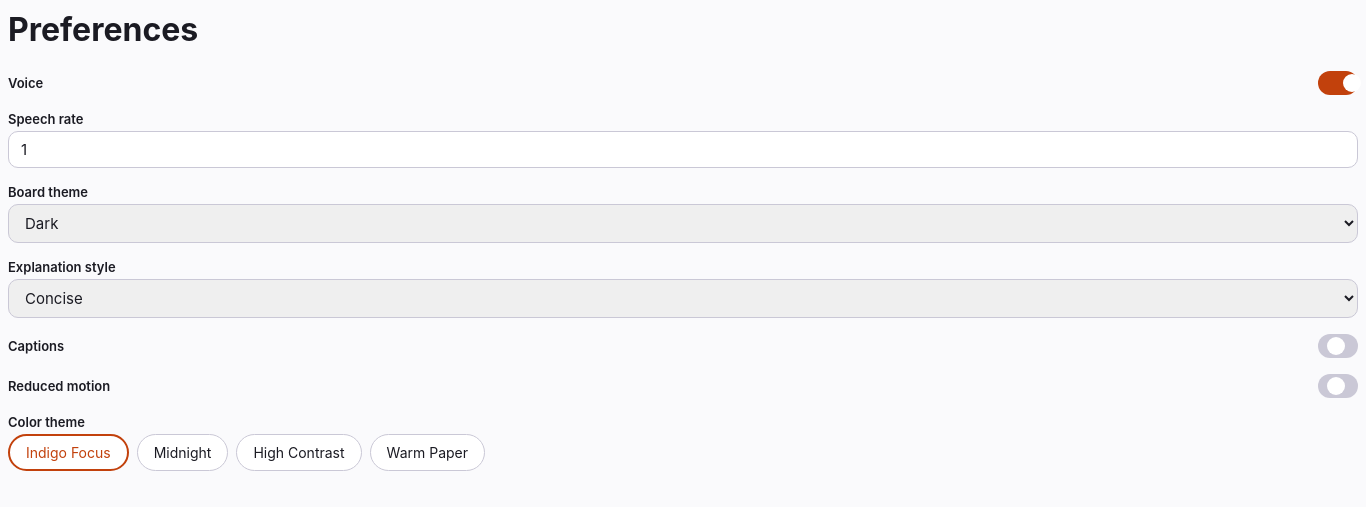
PreferencesPage › reverts to the previous theme (including in setColorTheme) when a theme save fails
This screenshot has width=1366, height=507.
Click the radio button labelled "Midnight".
click(183, 452)  # box [137,434,228,471]
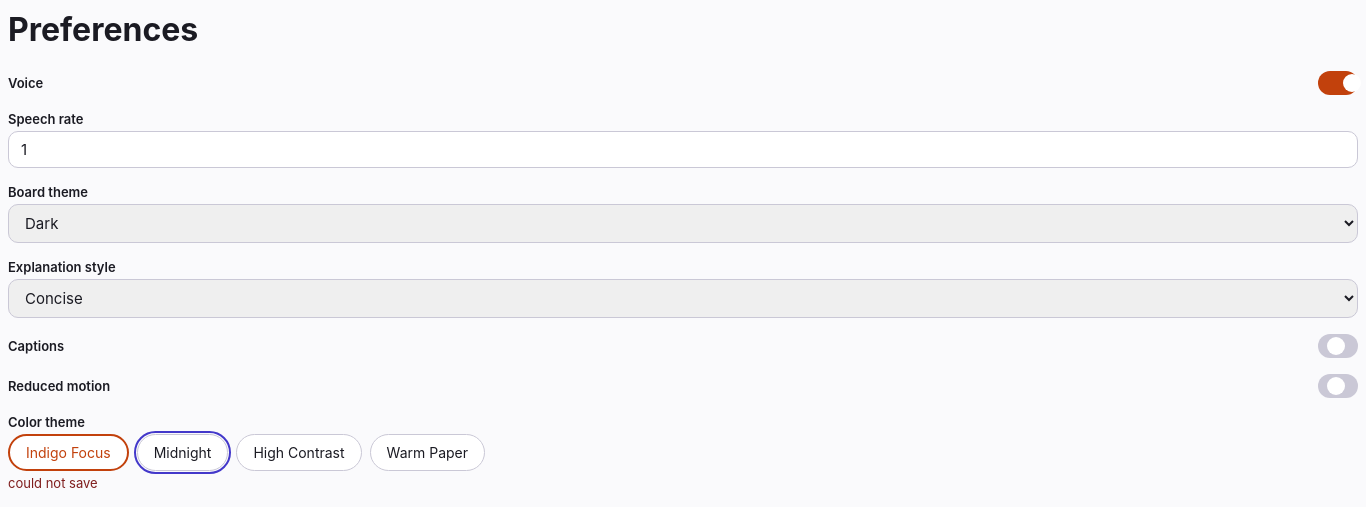
Now the text "could not save" is shown, box [8,475,98,491]
